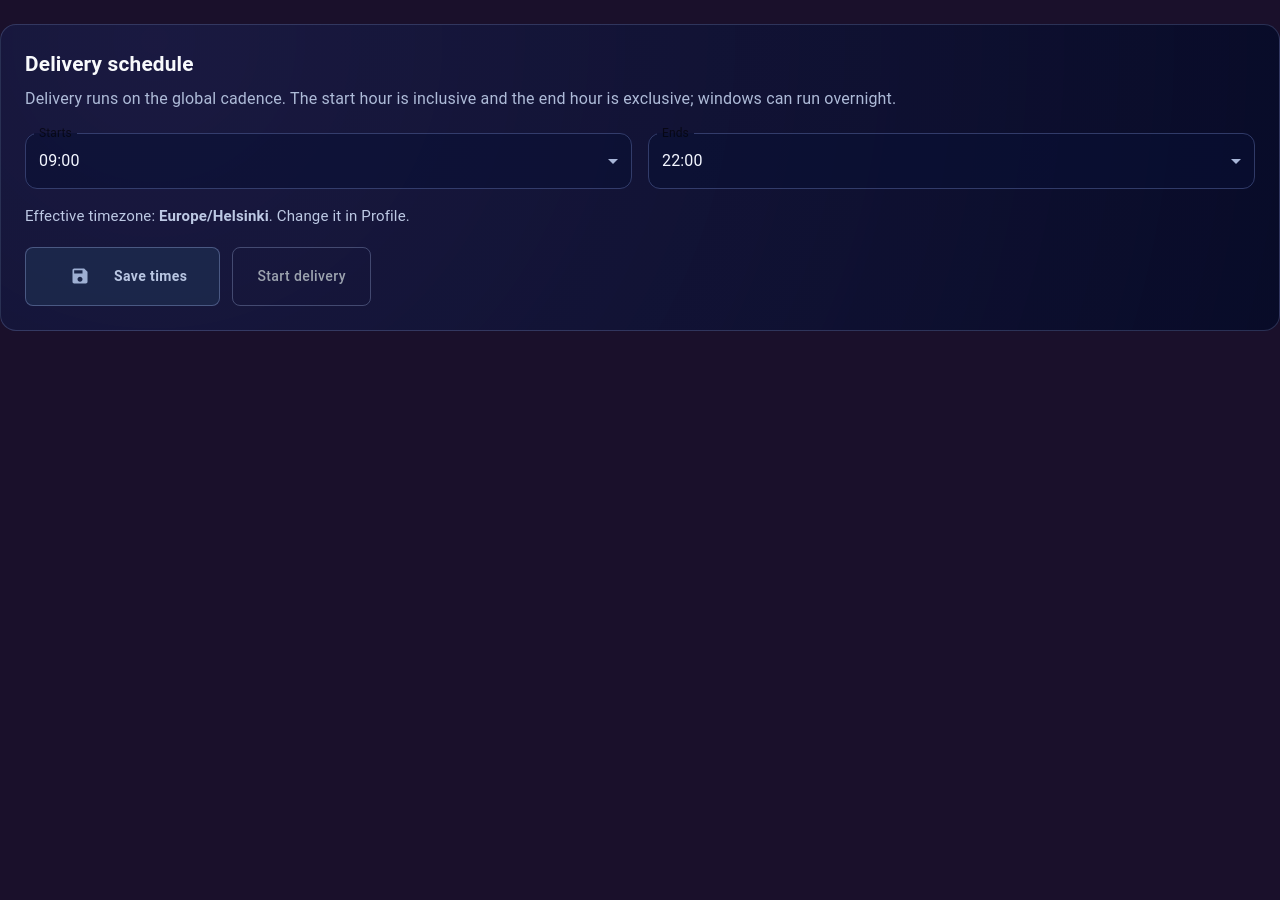
Scenario: RecallDeliverySchedule › shows equality feedback, focuses the schedule group, and blocks mutations
This screenshot has width=1280, height=900.
Click the dropdown named "Ends" at (682, 161), box [662,151,703,170]
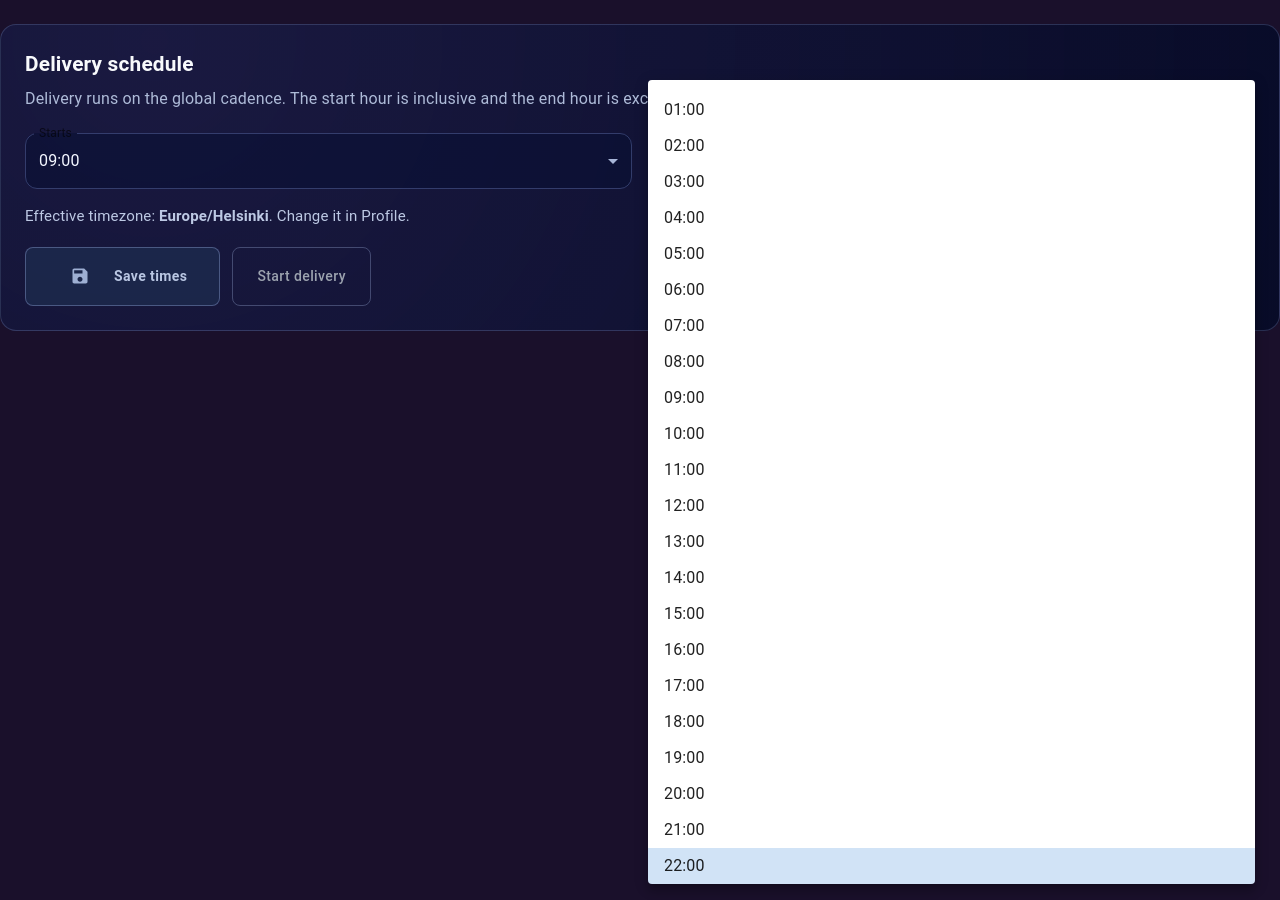
Click the option "09:00" at (684, 398), box [664,388,705,407]
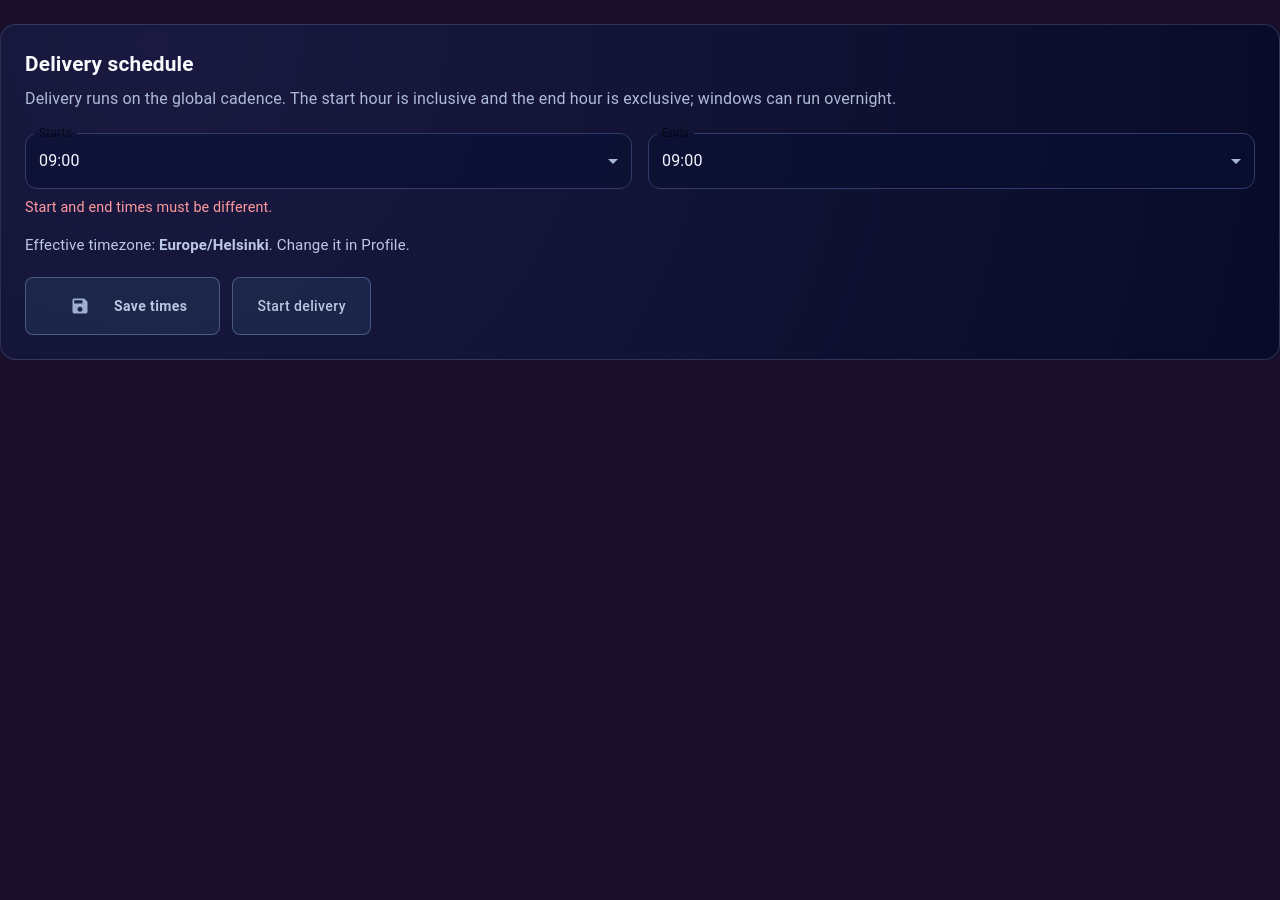
Expected: the button "Save times" is disabled, [25,277,220,335]
Result: the message shows "must be different" at [25,199,272,216]
Result: the button "Start delivery" is disabled at [232,277,371,335]
